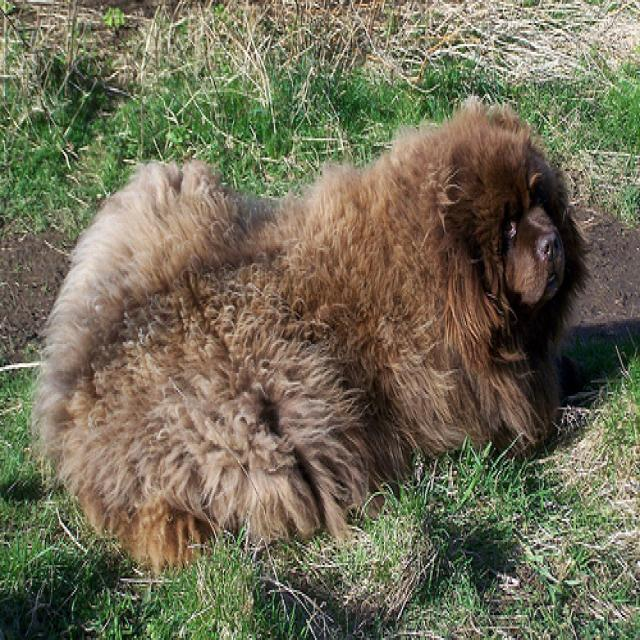dog-newfoundland: (28, 104, 586, 567)
